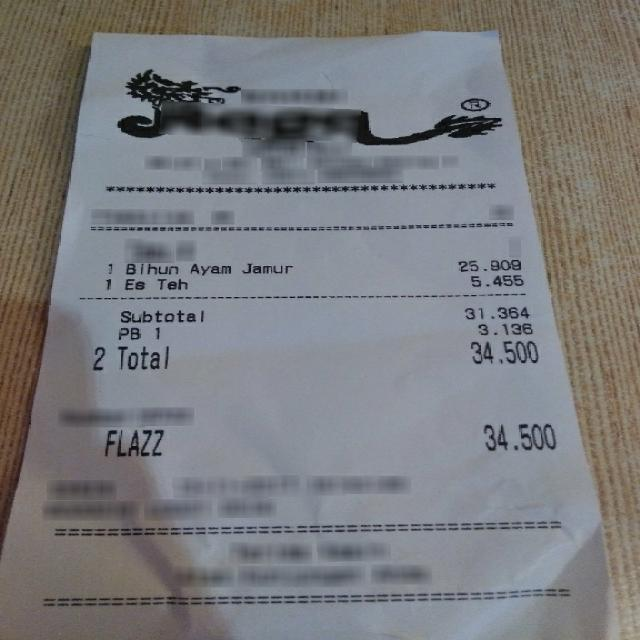kertas: (4, 33, 612, 640)
